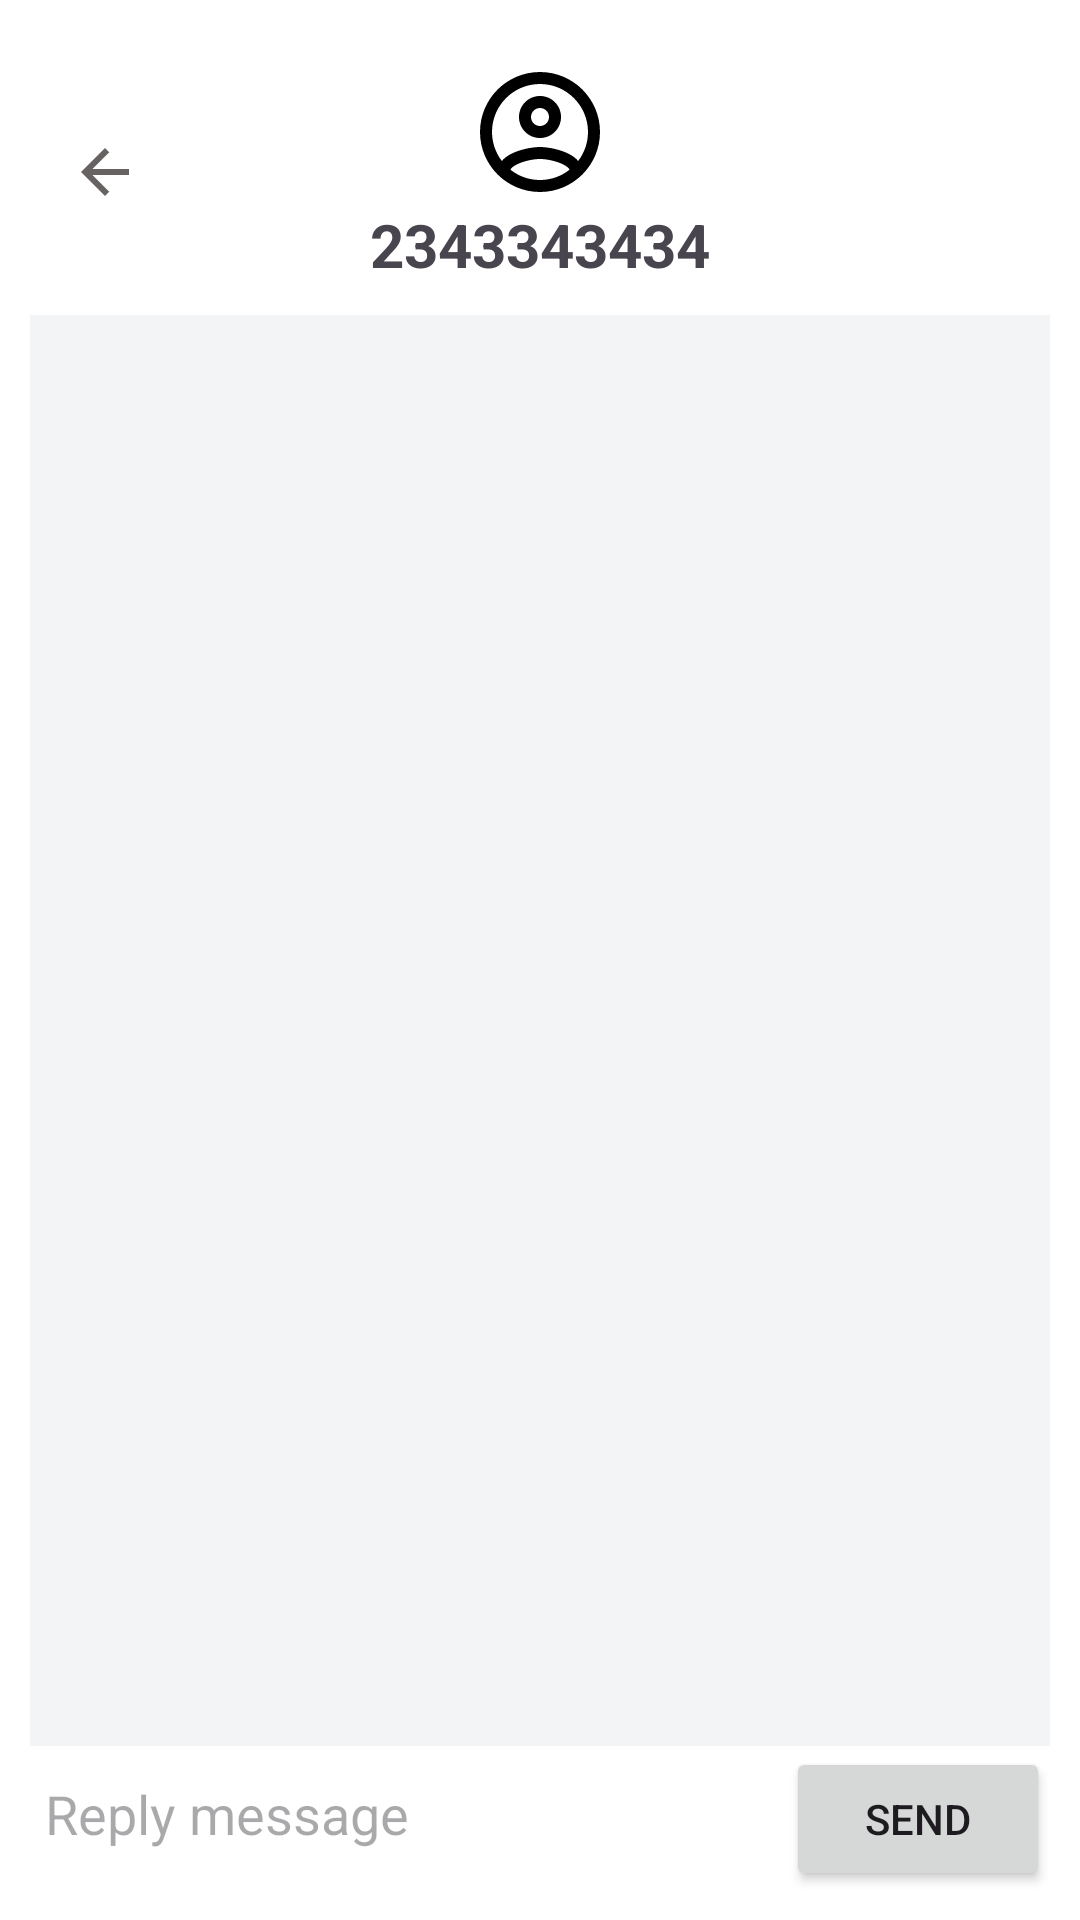

Screen size 1080px x 1920px. Icon name, then its box in pixels as (x1, y1, x2, y2):
account circle: (480, 72, 600, 192)
arrow back: (81, 148, 129, 196)
